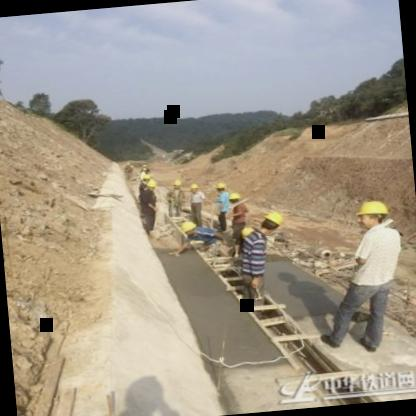helmet: (356, 197, 392, 230), (255, 208, 288, 232), (179, 217, 205, 240), (224, 189, 247, 206), (214, 179, 234, 196), (168, 177, 186, 191), (146, 176, 160, 193), (188, 180, 202, 194)
